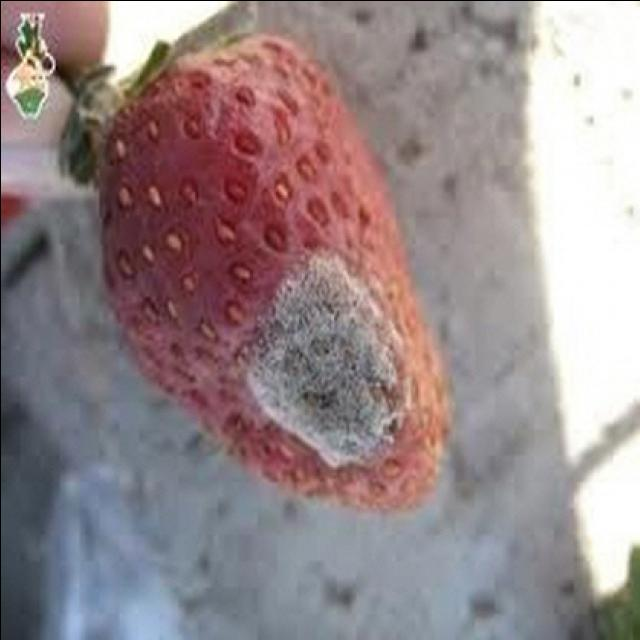Gray Mold: (230, 240, 413, 473)
